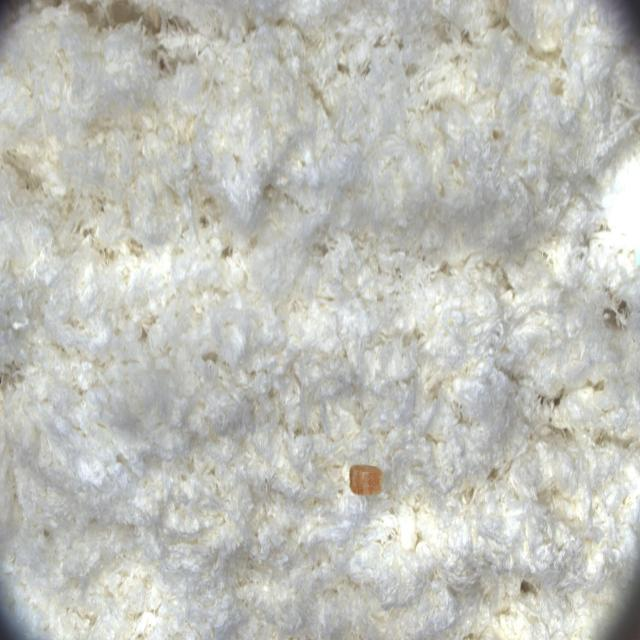dust: (324, 433, 404, 518)
